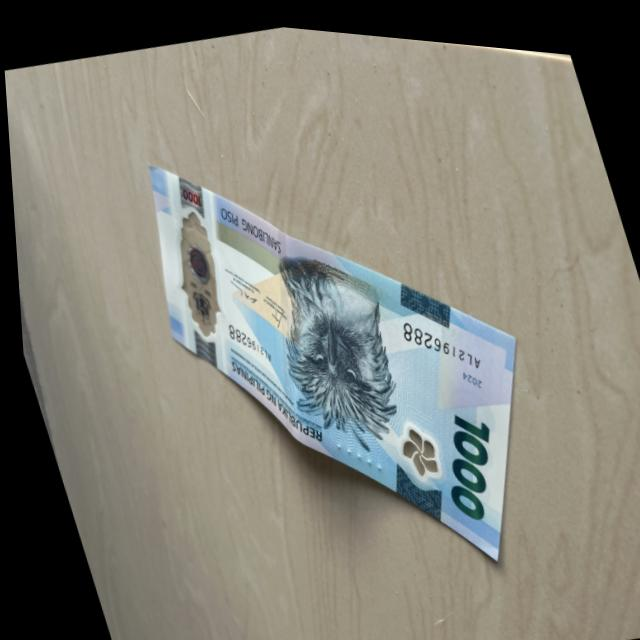clear_window: (151, 193, 235, 351)
eagle: (253, 245, 411, 458)
sampaguita: (389, 413, 438, 479)
